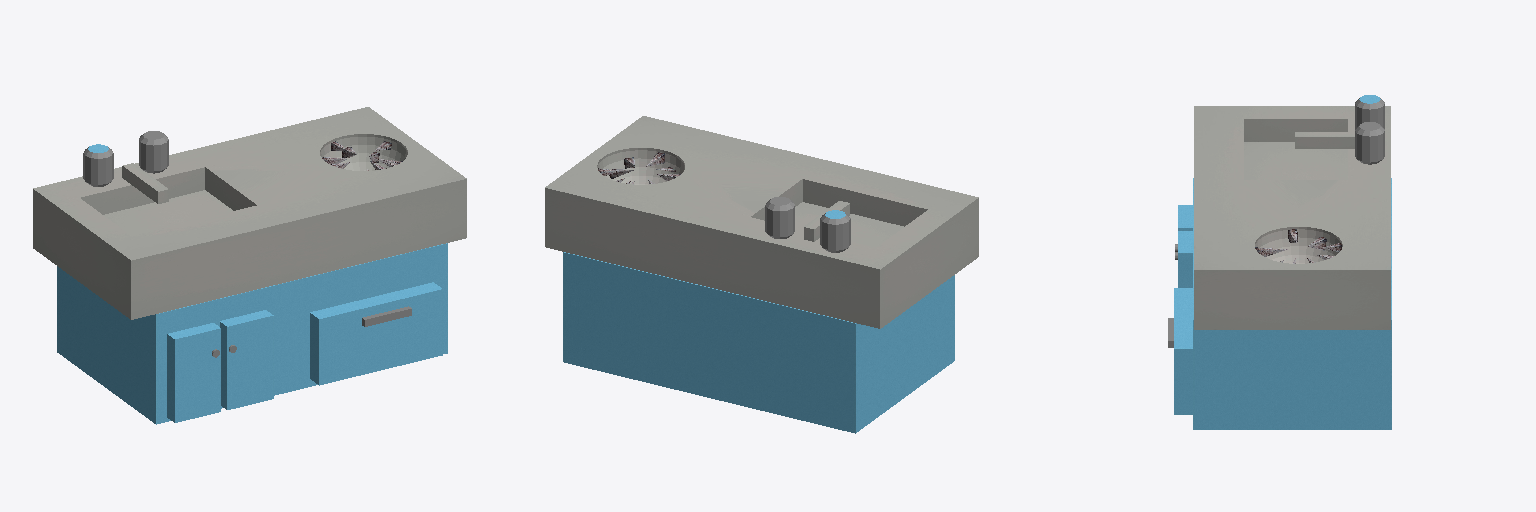
3 views of the same model, side by side, from view 1: azimuth 30°, elevation 25°; view 2: azimuth 150°, elevation 25°; view 3: azimuth 270°, elevation 25° (orthographic).
Visible parts, largest first — view 1: Box002, Box001, Box007, Box006, Box005, ChamferCyl003, ChamferCyl001, Box004; view 2: Box002, Box001, ChamferCyl003, ChamferCyl001; view 3: Box002, Box001, Box007, ChamferCyl001, Box004, Box005, ChamferCyl003.
Part boxes in pixels (x1,y1,x2,y2): Box002: (33,107,466,319); Box001: (57,243,447,424); Box007: (310,282,442,385); Box006: (167,323,220,422); Box005: (220,310,273,409); ChamferCyl003: (83,144,113,186); ChamferCyl001: (139,131,168,173); Box004: (122,163,168,203); Box002: (545,116,978,328); Box001: (563,252,954,433); ChamferCyl003: (820,210,850,252); ChamferCyl001: (765,197,794,238); Box002: (1194,106,1390,329); Box001: (1193,178,1391,429); Box007: (1174,288,1192,414); ChamferCyl001: (1355,122,1384,164); Box004: (1295,132,1354,148); Box005: (1178,231,1192,287); ChamferCyl003: (1355,95,1384,128).
Size of the model in its own units: 76.88 by 44.54 by 44.34.
6 materials, 3 textured.